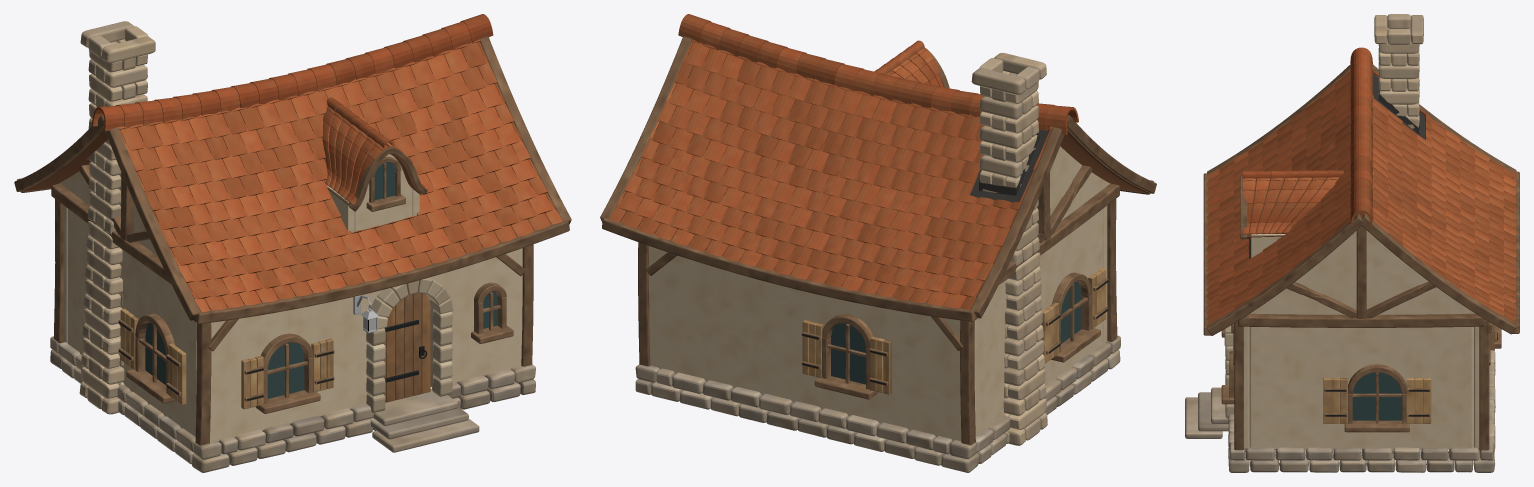
File: house_LOD0.fbx
3 views of the same model, side by side, from view 1: azimuth 30°, elevation 25°; view 2: azimuth 150°, elevation 25°; view 3: azimuth 270°, elevation 25° (orthographic). The views are drawn at different scales.
Parts seen in each view (by area): view 1: BLD_House_Cottage_A_LOD0; view 2: BLD_House_Cottage_A_LOD0; view 3: BLD_House_Cottage_A_LOD0.
Boxes of the visible parts, left/top/right/bottom form: BLD_House_Cottage_A_LOD0: left=14, top=14, right=571, bottom=472; BLD_House_Cottage_A_LOD0: left=600, top=14, right=1156, bottom=472; BLD_House_Cottage_A_LOD0: left=1185, top=14, right=1519, bottom=472.
Size of the model in its own units: 748 by 670 by 645.
